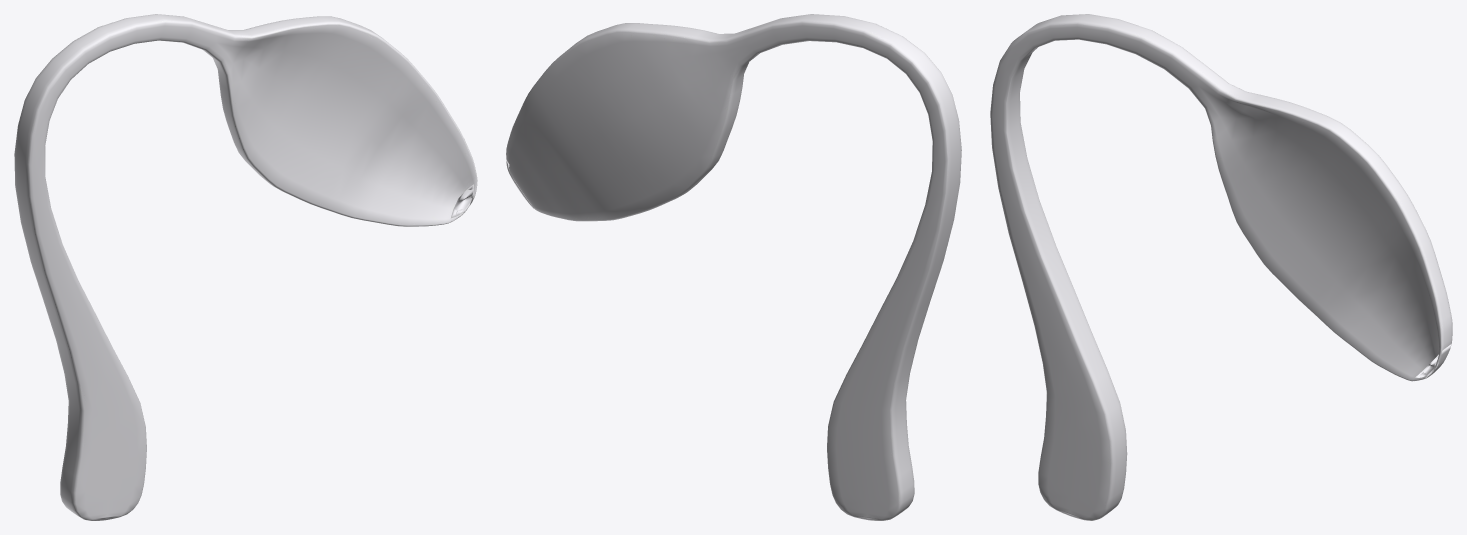
File: working.glb
The picture shows the model from 3 angles, left to right: view 1: azimuth 30°, elevation 25°; view 2: azimuth 150°, elevation 25°; view 3: azimuth 330°, elevation 25°; orthographic projection. The views are drawn at different scales.
Parts seen in each view (by area): view 1: Spoon.001; view 2: Spoon.001; view 3: Spoon.001.
Boxes of the visible parts, box(x1,y1,x2,y2) form: Spoon.001: box(14, 14, 477, 520); Spoon.001: box(506, 14, 961, 520); Spoon.001: box(990, 14, 1452, 520).
Size of the model in its own units: 0.8869 by 0.9225 by 0.1022.
Materials: 1 (1 with a texture image).
